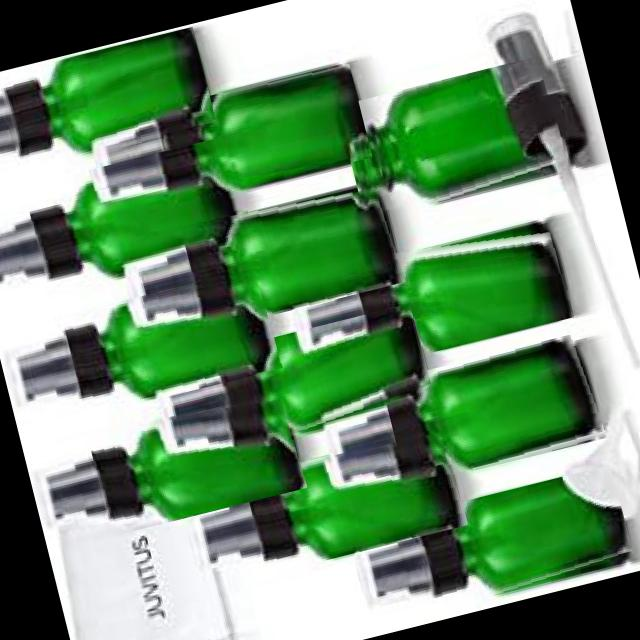Glass: (336, 53, 572, 224), (22, 134, 256, 292), (380, 330, 608, 490), (180, 174, 406, 330), (350, 208, 574, 364), (85, 379, 308, 535), (60, 262, 282, 416), (242, 422, 468, 573), (214, 302, 436, 452), (413, 463, 635, 611), (0, 25, 217, 176), (150, 59, 372, 204)
